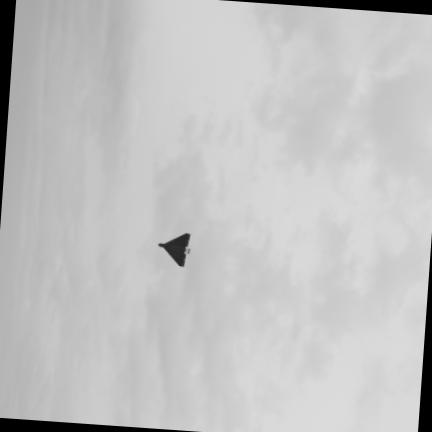Shahed: (157, 233, 189, 266)
